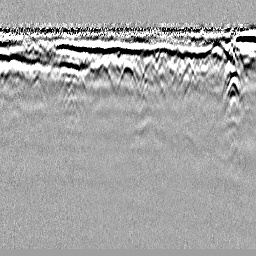cavity: (116, 59, 139, 90)
